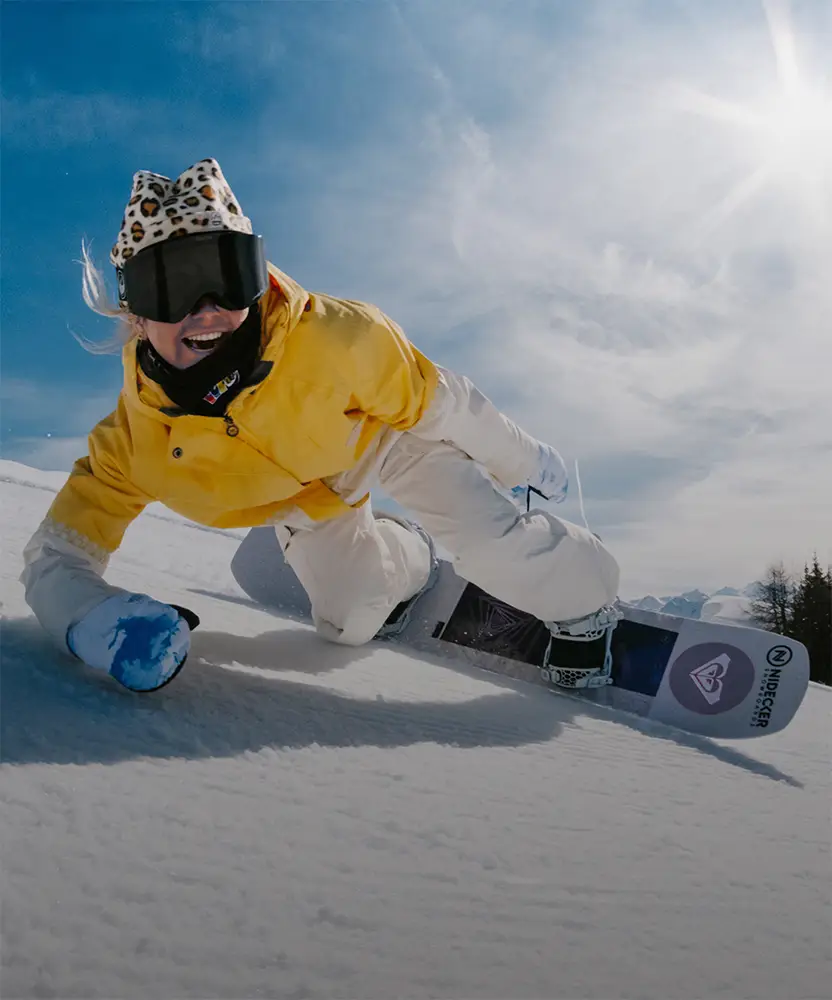snowboarder: (19, 154, 803, 751)
